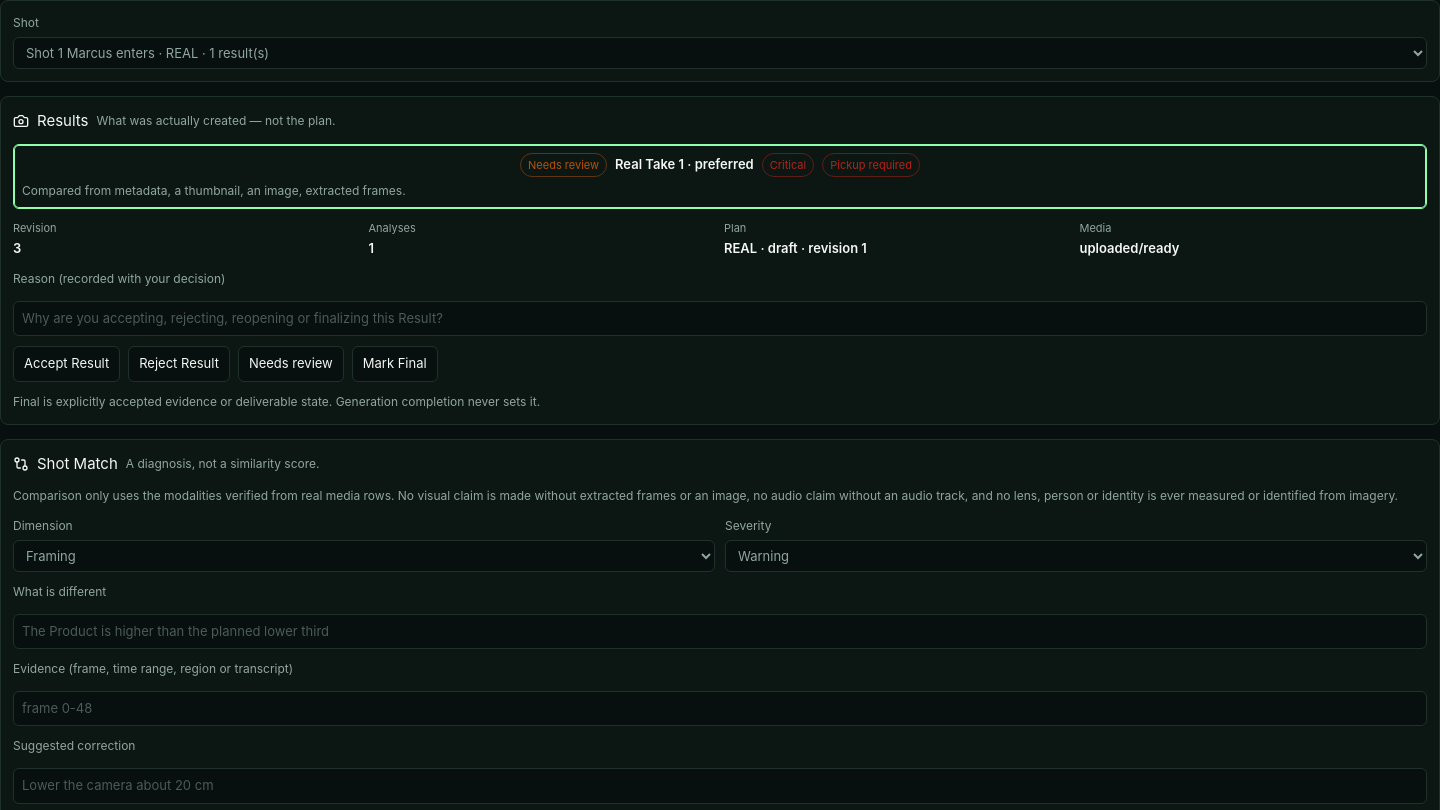
Test case: results › states that Final is never set by generation and sends the revision being reviewed
Check: the text "Generation completion never sets it" is shown, box x1=13 y1=394 x2=540 y2=409
Replace the text in the field named "Result decision reason" with "The take reads correctly." at (720, 319), box x1=13 y1=301 x2=1427 y2=336
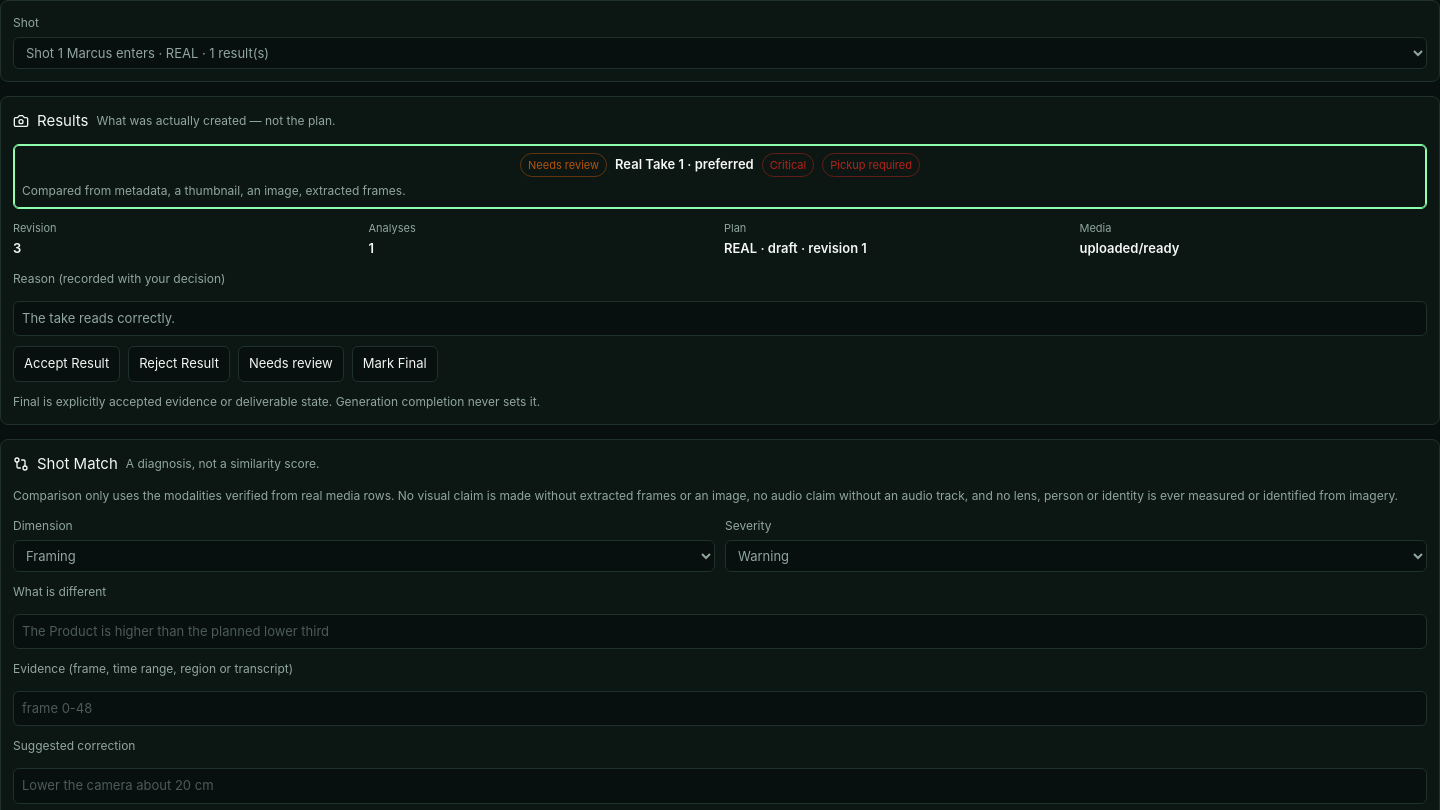
Click the button "Accept Result" at (67, 364), box x1=13 y1=346 x2=120 y2=382
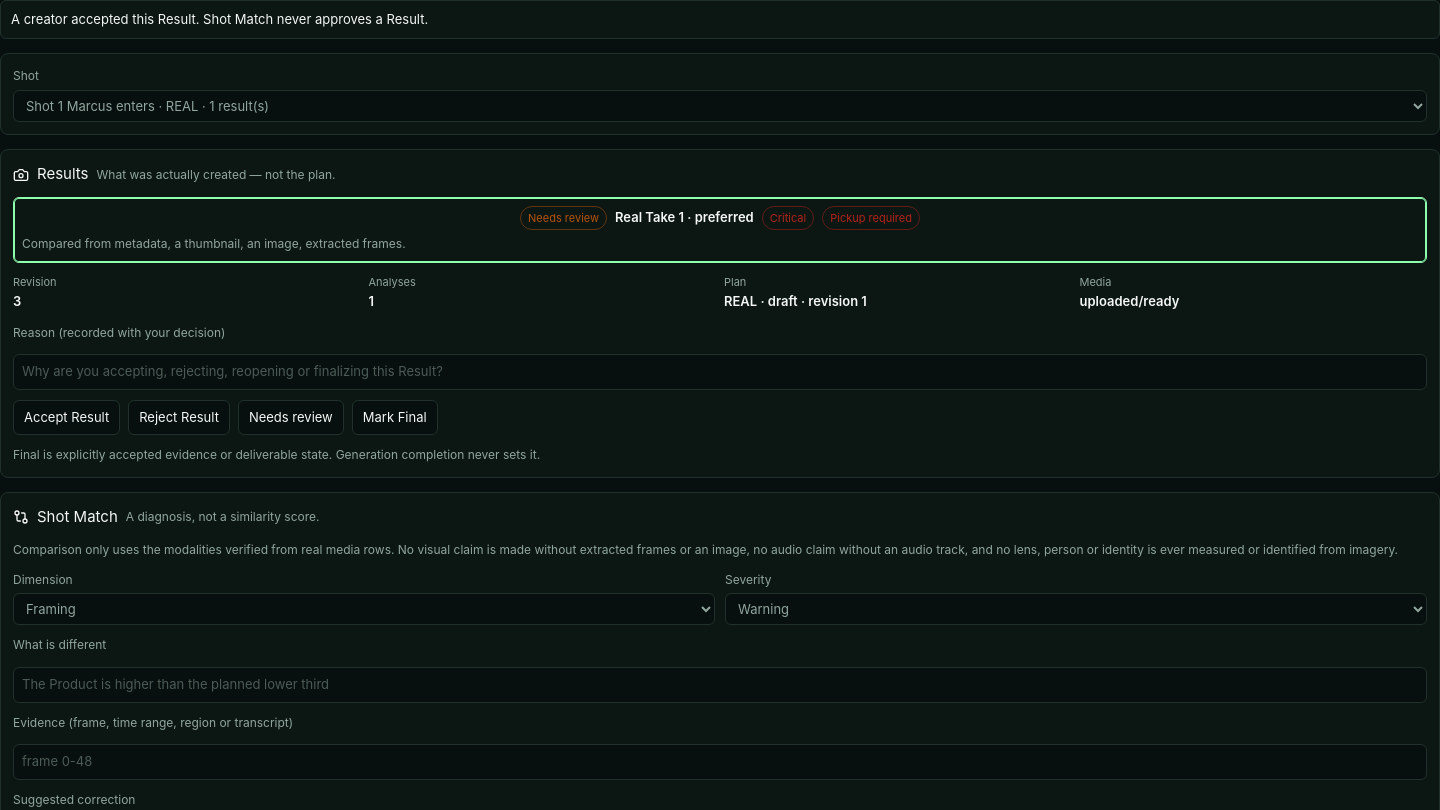
Check: the text "A creator accepted this Result. Shot Match never approves a Result." is shown, box x1=0 y1=0 x2=1439 y2=39
